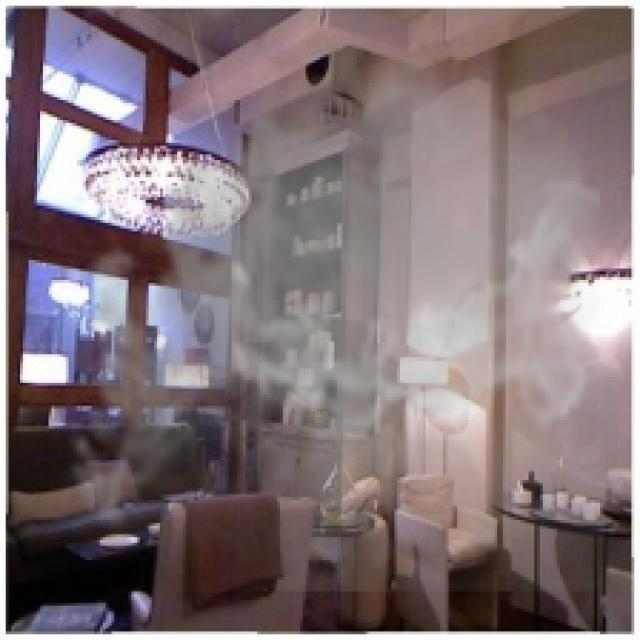Smoke: (51, 34, 606, 592)
